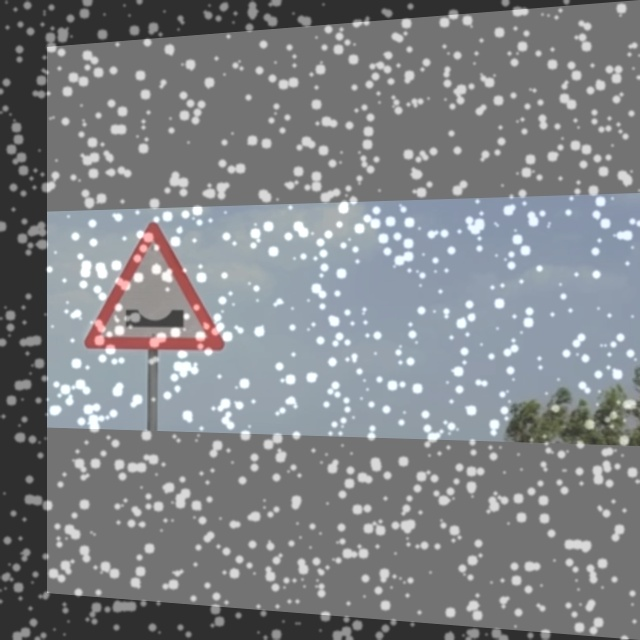Dangerous_Dip: (88, 221, 225, 351)
